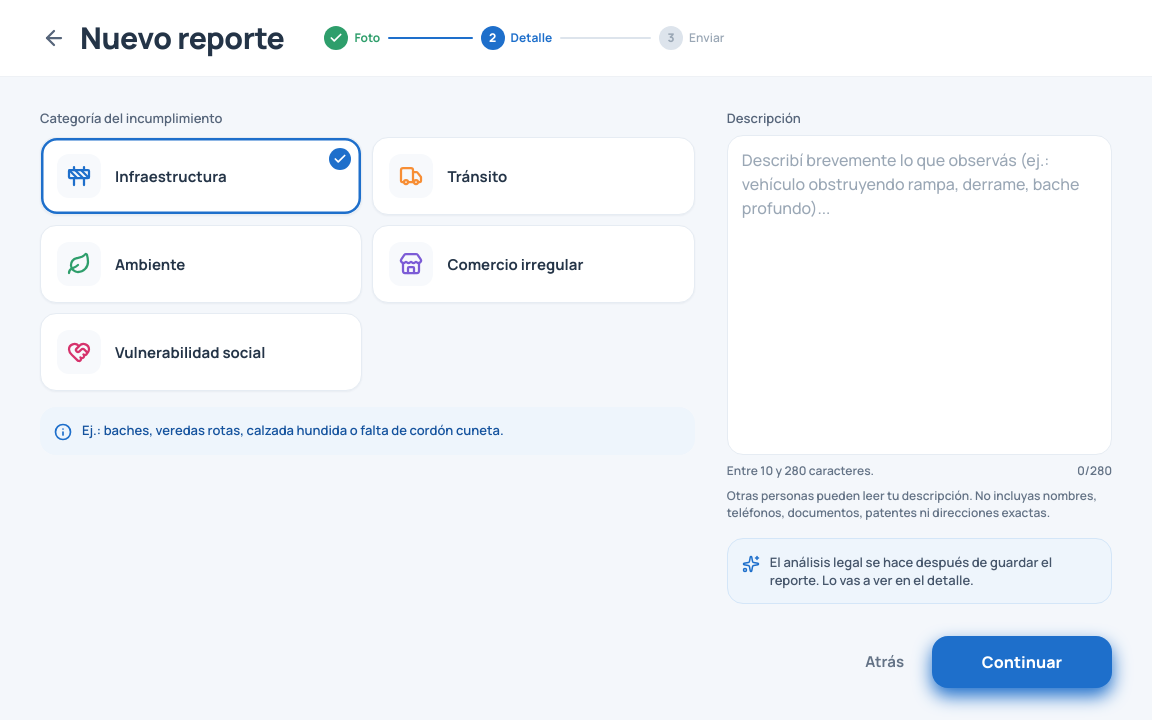
Scenario: REP-2203: descripción del reporte en el Paso 2 › UT-DESC-10: vacía, no deja continuar y muestra una indicación comprensible
The width and height of the screenshot is (1152, 720).
Click the button "Continuar".
click(1022, 662)  # box [932,636,1112,688]
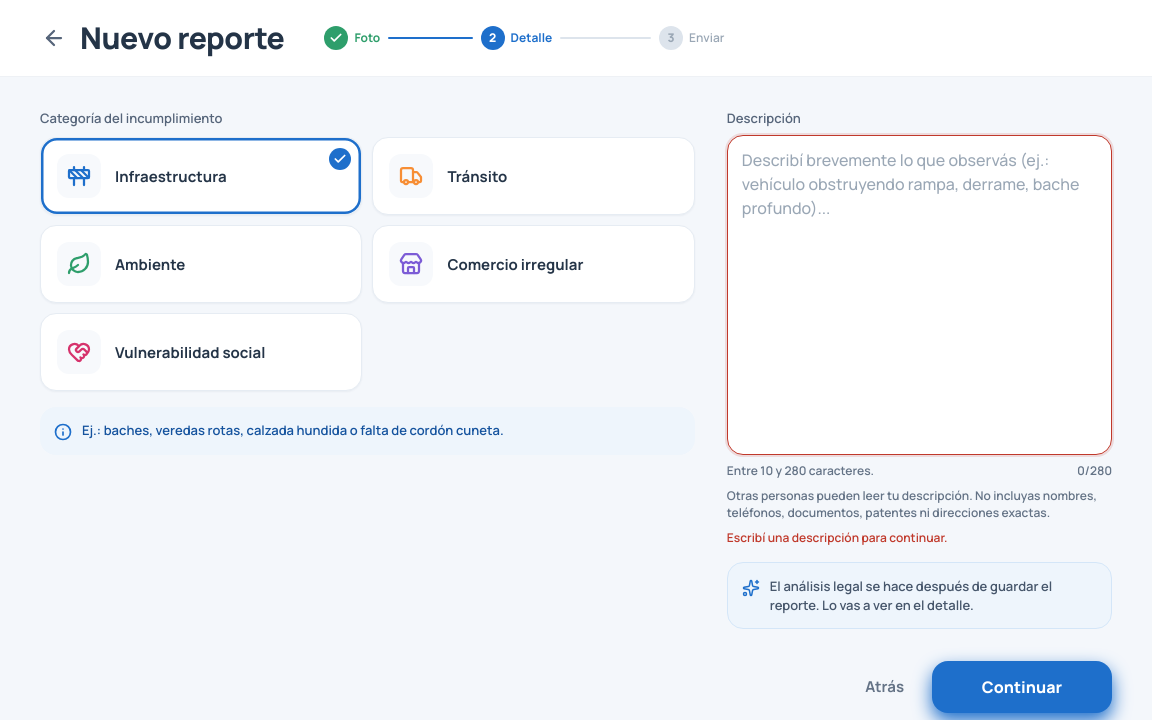
Now the message shows "Escribí una descripción", box [727,529,948,546]
